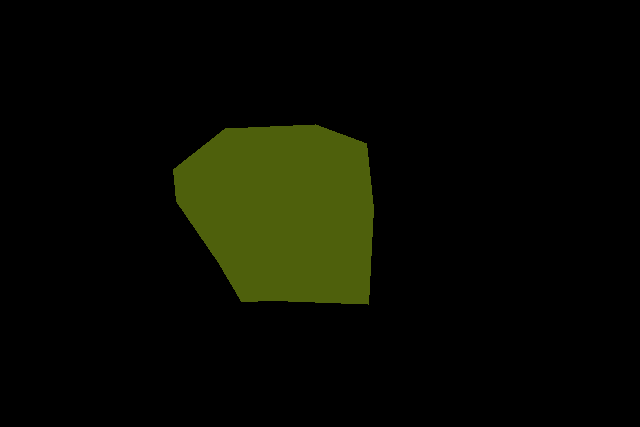Train: (173, 124, 374, 305)
